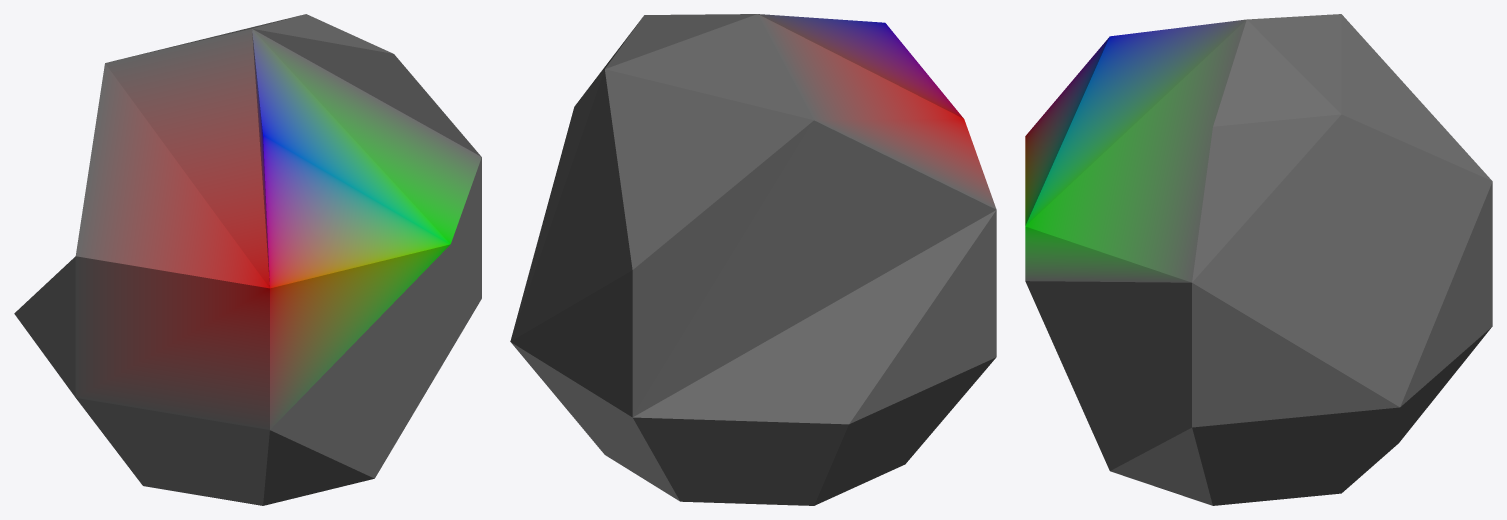
The model's file is decimating_conquest_1_14.obj.
3 renders of one model, left to right at view 1: azimuth 30°, elevation 25°; view 2: azimuth 150°, elevation 25°; view 3: azimuth 270°, elevation 25°, orthographic. The views are drawn at different scales.
Bounding box in the file's own units: 1.85 × 2 × 1.81.
